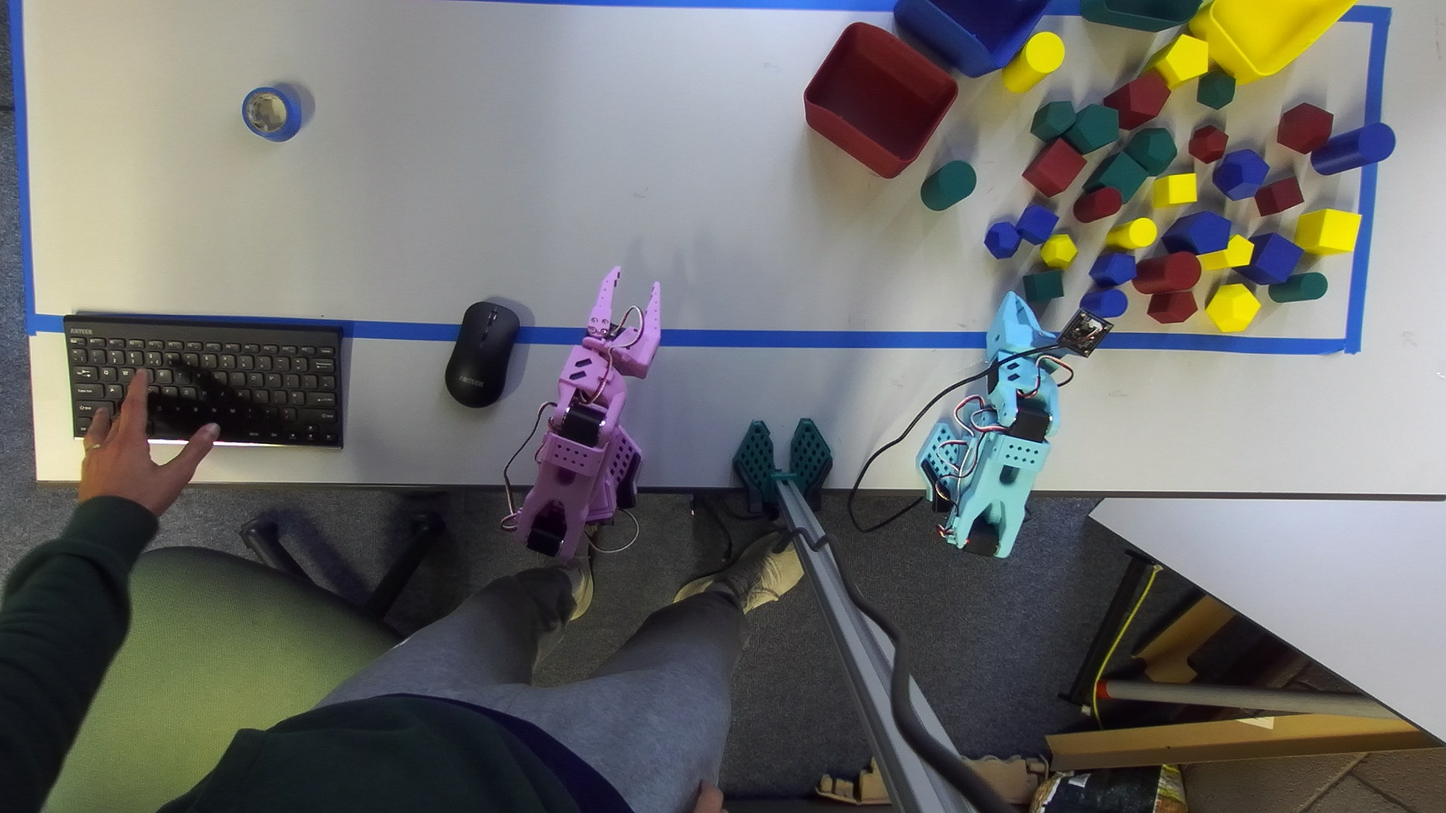bin: (804, 22, 957, 178), (1188, 0, 1354, 83), (894, 0, 1048, 77), (1079, 0, 1203, 32)
cube: (1023, 137, 1086, 196), (1240, 233, 1303, 285), (1293, 209, 1361, 255), (1085, 152, 1146, 201), (1254, 177, 1303, 215), (1016, 203, 1058, 245), (1152, 173, 1197, 207), (1023, 269, 1063, 305)
cylinder: (1310, 122, 1395, 175), (1002, 32, 1064, 93), (1133, 251, 1200, 294), (920, 160, 976, 210), (1268, 272, 1327, 303), (1073, 187, 1121, 222), (1106, 217, 1158, 249), (1080, 288, 1127, 318)
dodecahedron: (1277, 103, 1332, 154), (1212, 149, 1268, 199), (1206, 283, 1260, 333), (1125, 128, 1177, 175), (1188, 124, 1228, 164), (1197, 71, 1235, 108), (1040, 233, 1077, 269), (984, 221, 1020, 258)
gripper: (581, 266, 660, 378), (986, 291, 1054, 359)
hexagonal: (1103, 70, 1170, 129), (1147, 33, 1209, 90), (1162, 211, 1231, 254), (1063, 104, 1118, 153), (1197, 235, 1253, 270), (1089, 251, 1136, 288), (1031, 101, 1075, 140), (1148, 291, 1197, 323)
